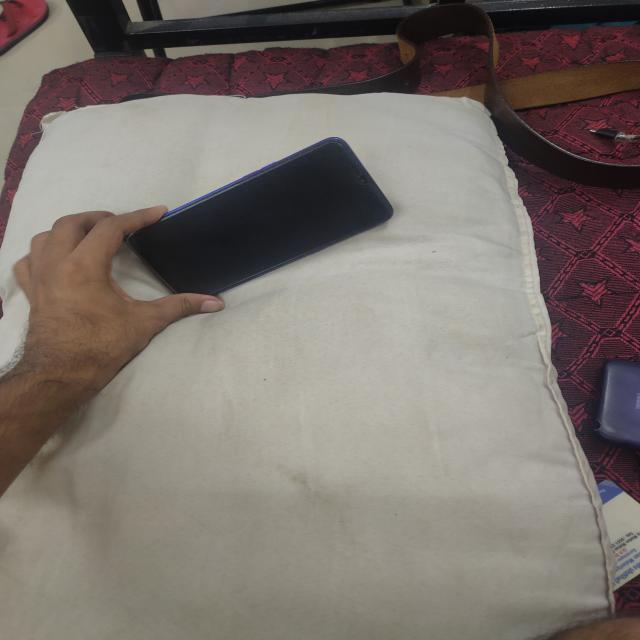Phone: (116, 134, 396, 303)
